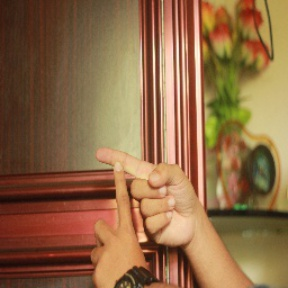T: (82, 139, 167, 266)
